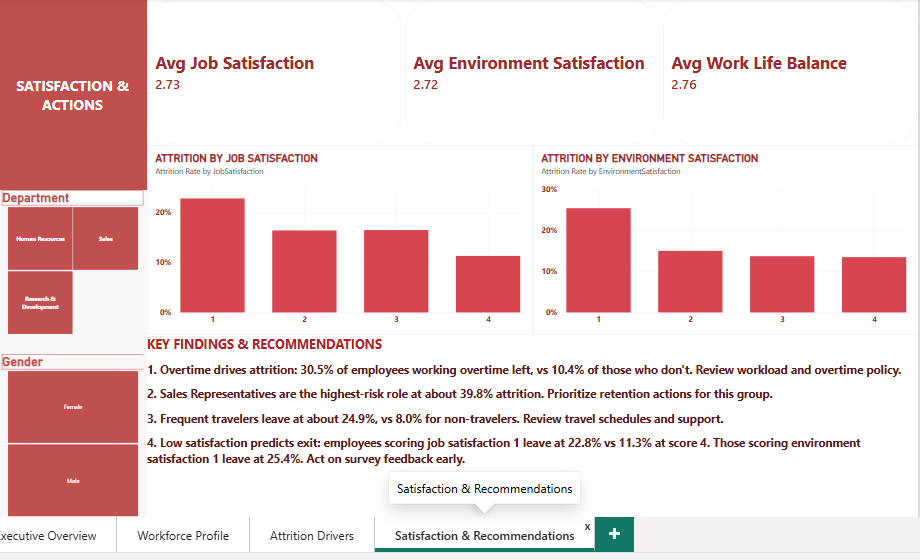

This screenshot's page, from the dashboard's own definition file:
{"tool":"powerbi","page":{"name":"Satisfaction & Recommendations","canvas":[1920,1080],"ordinal":3},"visuals":[{"type":"shape","box":[0,0,310.7,398.2],"z":0},{"type":"slicer","fields":{"Values":["HR.Department"]},"box":[0,398.2,310.7,302.3],"z":1},{"type":"slicer","fields":{"Values":["HR.Gender"]},"box":[0,740.2,310.7,339.8],"z":2},{"type":"cardVisual","fields":{"Data":["measures (2).Avg Job Satisfaction","measures (2).Avg Environment Satisfaction","measures (2).Avg Work Life Balance"]},"box":[311.1,0,1608.9,303.9],"z":3},{"type":"clusteredColumnChart","title":"ATTRITION BY JOB SATISFACTION","fields":{"Category":["HR.JobSatisfaction"],"Y":["measures (2).Attrition Rate"]},"box":[310.7,304.4,804.8,396.1],"z":4},{"type":"clusteredColumnChart","title":"  ATTRITION BY ENVIRONMENT SATISFACTION","fields":{"Category":["HR.EnvironmentSatisfaction"],"Y":["measures (2).Attrition Rate"]},"box":[1115.2,304.4,804.8,396.1],"z":5},{"type":"textbox","box":[310.7,700.5,1609.6,379.5],"z":6}]}

Visuals, with their boxes on the page's 1920x1080 design canvas (x1, y1, x2, y2). These are canvas units, not pixel positions in the 920x560 screenshot, which may show the page scaled, cropped or inside an application window:
shape: (left=0, top=0, right=311, bottom=398)
slicer - HR.Department: (left=0, top=398, right=311, bottom=700)
slicer - HR.Gender: (left=0, top=740, right=311, bottom=1080)
cardVisual - measures (2).Avg Job Satisfaction x measures (2).Avg Environment Satisfaction: (left=311, top=0, right=1920, bottom=304)
"ATTRITION BY JOB SATISFACTION" clusteredColumnChart: (left=311, top=304, right=1116, bottom=700)
"  ATTRITION BY ENVIRONMENT SATISFACTION" clusteredColumnChart: (left=1115, top=304, right=1920, bottom=700)
textbox: (left=311, top=700, right=1920, bottom=1080)
